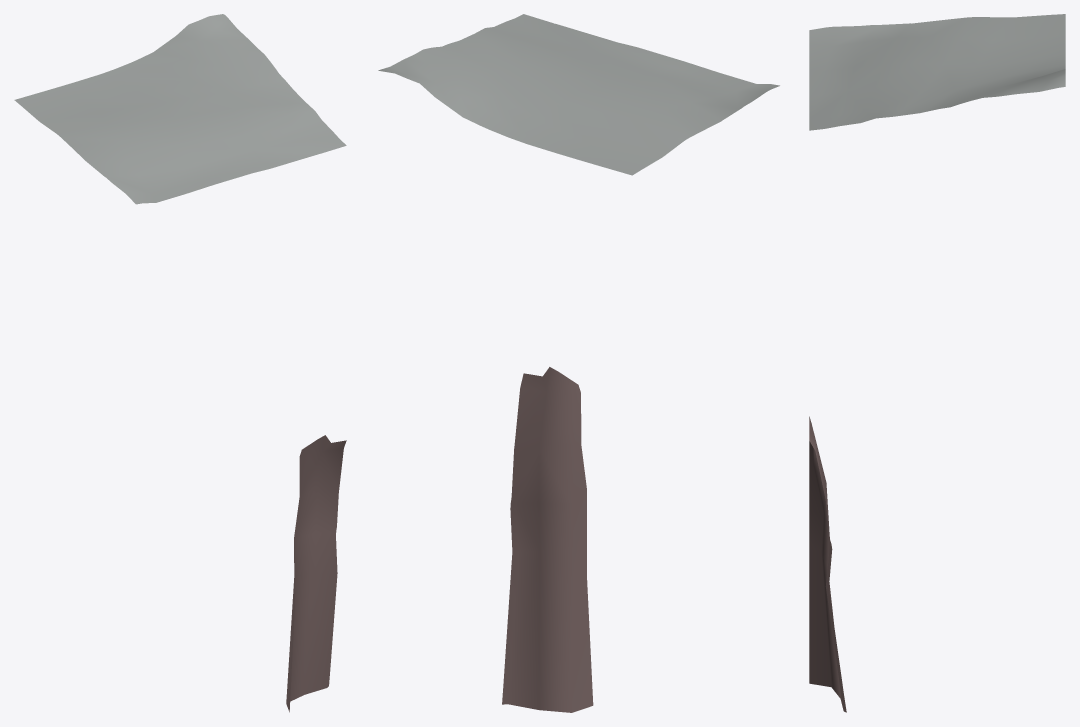
3 renders of one model, left to right at view 1: azimuth 30°, elevation 25°; view 2: azimuth 150°, elevation 25°; view 3: azimuth 270°, elevation 25°, orthographic. The views are drawn at different scales.
Visible parts, largest first — view 1: G:\FFXIV-MapTools\exports\u5f1\bg\ex4\04_uvs_u5\fld\u5f1\bgp (×4); view 2: G:\FFXIV-MapTools\exports\u5f1\bg\ex4\04_uvs_u5\fld\u5f1\bgp (×5); view 3: G:\FFXIV-MapTools\exports\u5f1\bg\ex4\04_uvs_u5\fld\u5f1\bgp (×3).
Boxes of the visible parts, x1=… form: G:\FFXIV-MapTools\exports\u5f1\bg\ex4\04_uvs_u5\fld\u5f1\bgp (×4): x1=14, y1=14, x2=346, y2=712; G:\FFXIV-MapTools\exports\u5f1\bg\ex4\04_uvs_u5\fld\u5f1\bgp (×5): x1=378, y1=14, x2=779, y2=712; G:\FFXIV-MapTools\exports\u5f1\bg\ex4\04_uvs_u5\fld\u5f1\bgp (×3): x1=809, y1=14, x2=1065, y2=712.
Size of the model in its own units: 128 by 347 by 128.
